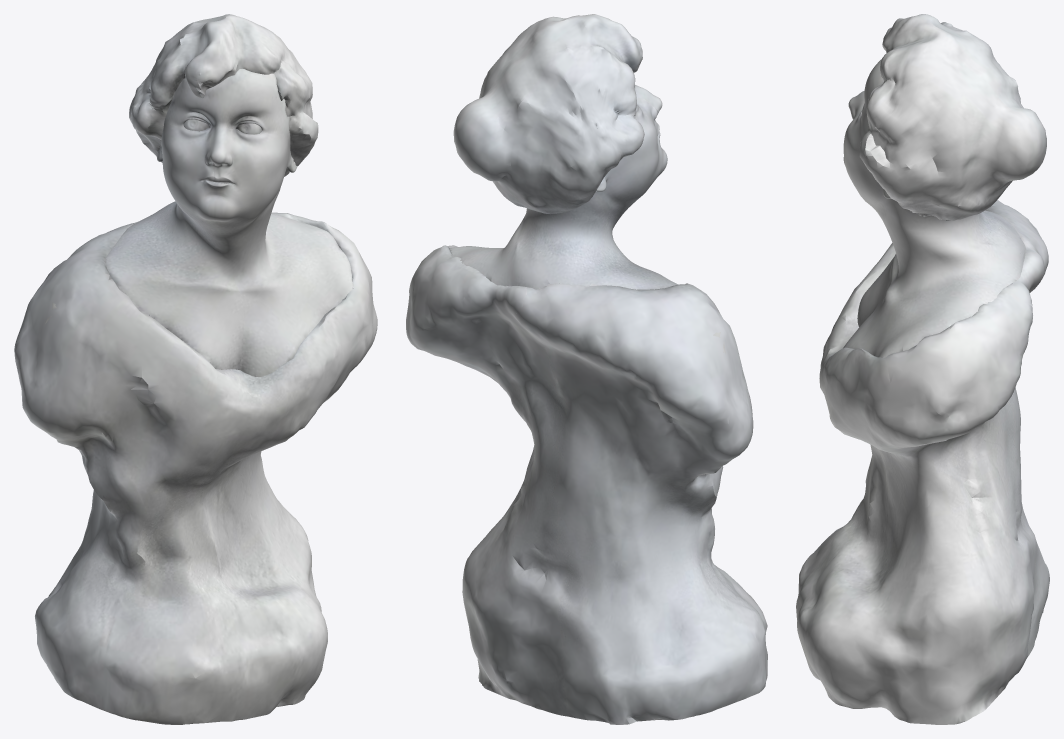
The model's file is daamiportree.glb.
3 renders of one model, left to right at view 1: azimuth 30°, elevation 25°; view 2: azimuth 150°, elevation 25°; view 3: azimuth 270°, elevation 25°, orthographic. The views are drawn at different scales.
Visible parts, largest first — view 1: Mesh; view 2: Mesh; view 3: Mesh.
Part boxes in pixels (bbox=[...]): Mesh: bbox=[14, 14, 377, 724]; Mesh: bbox=[406, 14, 767, 724]; Mesh: bbox=[796, 14, 1049, 724].
Bounding box in the file's own units: 0.4287 × 0.8046 × 0.2781.
3 materials, 1 textured.
